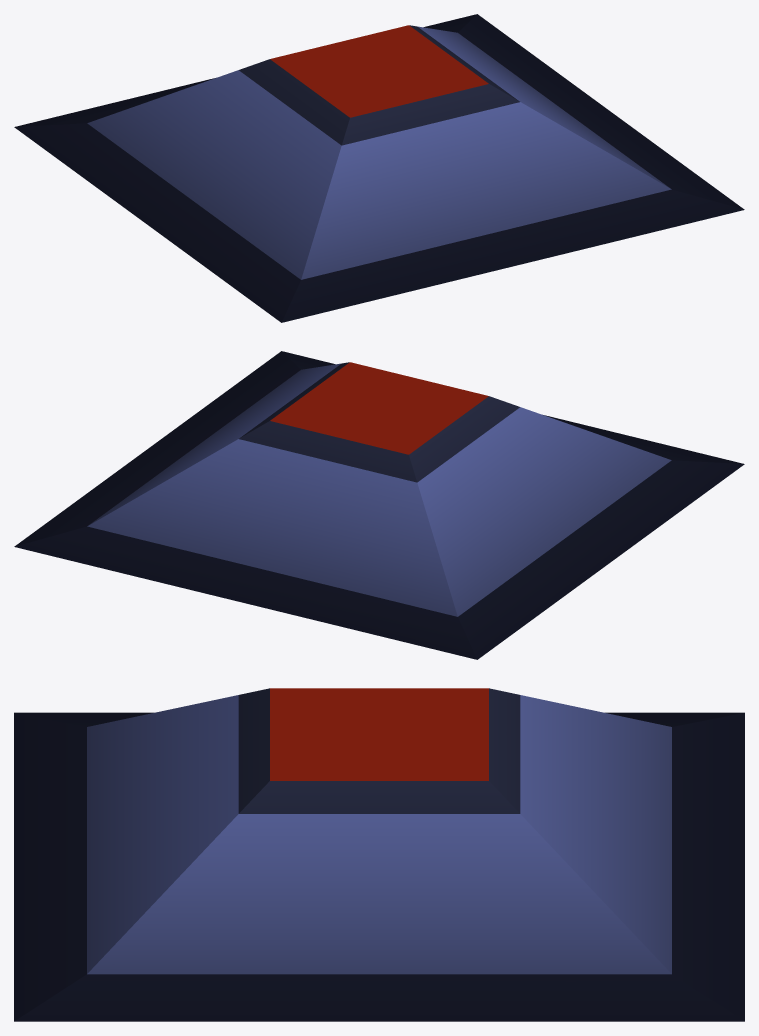
File: obstacle-box.fbx
The picture shows the model from 3 angles, top to bottom: view 1: azimuth 30°, elevation 25°; view 2: azimuth 150°, elevation 25°; view 3: azimuth 270°, elevation 25°; orthographic projection. The views are drawn at different scales.
Parts seen in each view (by area): view 1: obstacle-box; view 2: obstacle-box; view 3: obstacle-box.
Boxes of the visible parts, x1=… form: obstacle-box: x1=14, y1=14, x2=744, y2=322; obstacle-box: x1=14, y1=351, x2=744, y2=659; obstacle-box: x1=14, y1=688, x2=744, y2=1021.
Bounding box in the file's own units: 10 × 2 × 10.
